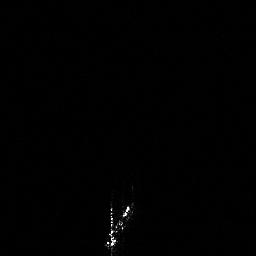ship: (100, 198, 135, 252)
